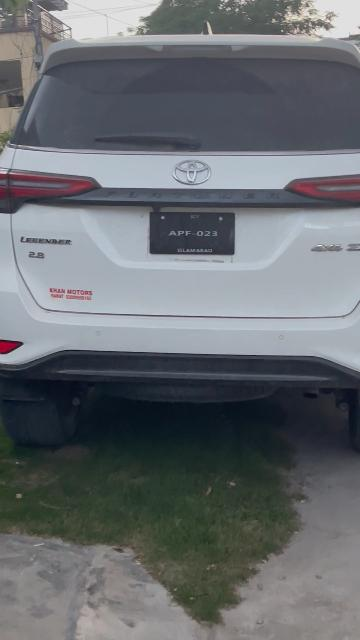plate: (148, 211, 234, 255)
